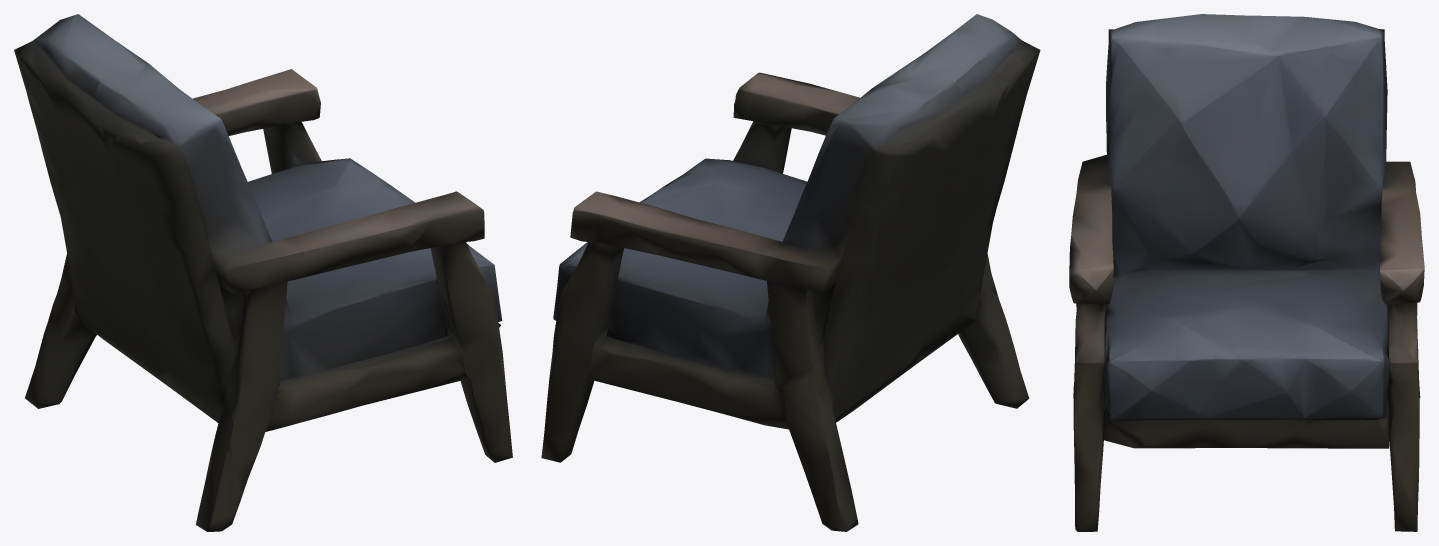
The model's file is low-poly+chair+3d+model.glb.
3 renders of one model, left to right at view 1: azimuth 30°, elevation 25°; view 2: azimuth 150°, elevation 25°; view 3: azimuth 270°, elevation 25°, orthographic. The views are drawn at different scales.
Visible parts, largest first — view 1: tripo_node_0015dca2-2ea6-488a-99be-d2f117aa4817; view 2: tripo_node_0015dca2-2ea6-488a-99be-d2f117aa4817; view 3: tripo_node_0015dca2-2ea6-488a-99be-d2f117aa4817.
Boxes of the visible parts, x1,y1,x2,y2 form: tripo_node_0015dca2-2ea6-488a-99be-d2f117aa4817: (14,14,512,531); tripo_node_0015dca2-2ea6-488a-99be-d2f117aa4817: (541,14,1040,531); tripo_node_0015dca2-2ea6-488a-99be-d2f117aa4817: (1069,14,1424,531).
Size of the model in its own units: 0.9453 by 1 by 0.8668.
Materials: 1 (1 with a texture image).
